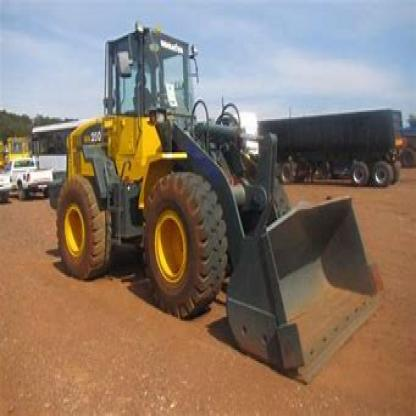bull_dozer/loader/grader: (48, 18, 387, 383)
